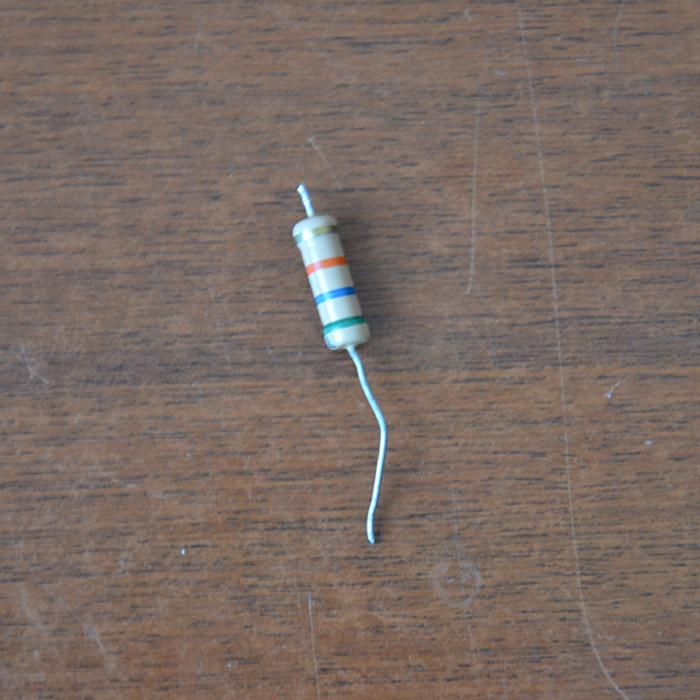resistor: (290, 211, 369, 349)
